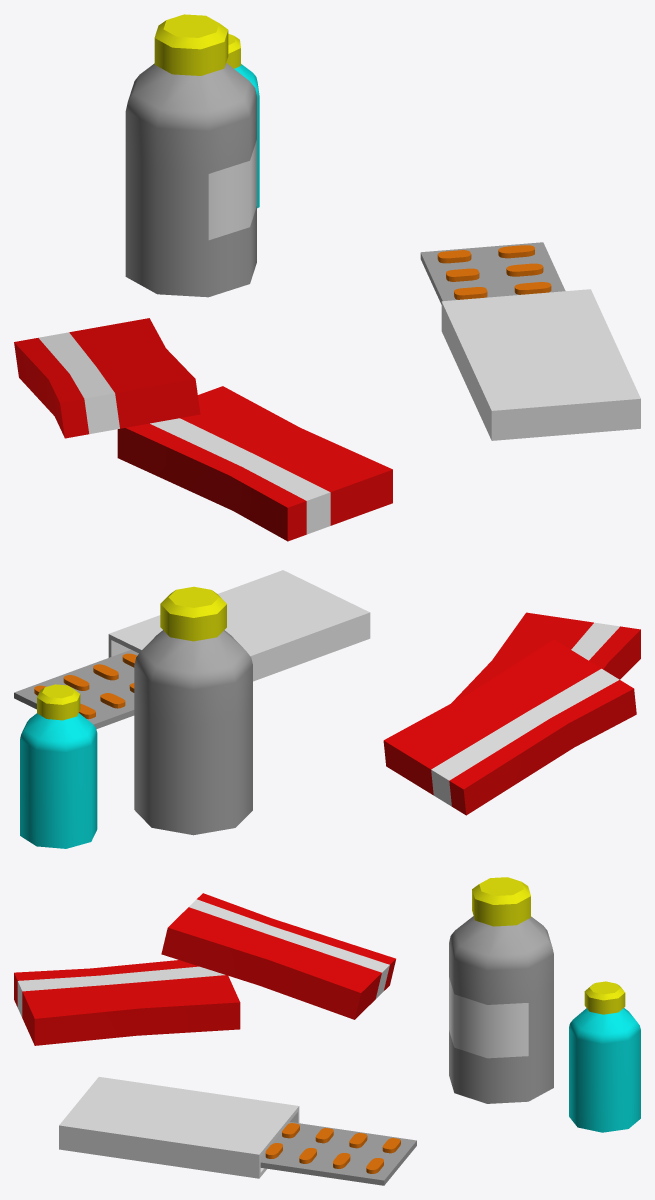
File: BedRoom_Medicines.fbx
3 views of the same model, one above another, from view 1: azimuth 30°, elevation 25°; view 2: azimuth 150°, elevation 25°; view 3: azimuth 270°, elevation 25° (orthographic). The views are drawn at different scales.
Parts seen in each view (by area): view 1: BedRoom_Medicines; view 2: BedRoom_Medicines; view 3: BedRoom_Medicines.
Boxes of the visible parts, box(x1,y1,x2,y2) form: BedRoom_Medicines: box(14, 14, 640, 541); BedRoom_Medicines: box(14, 570, 640, 848); BedRoom_Medicines: box(14, 877, 640, 1185).
Size of the model in its own units: 60.24 by 23.55 by 68.39.
